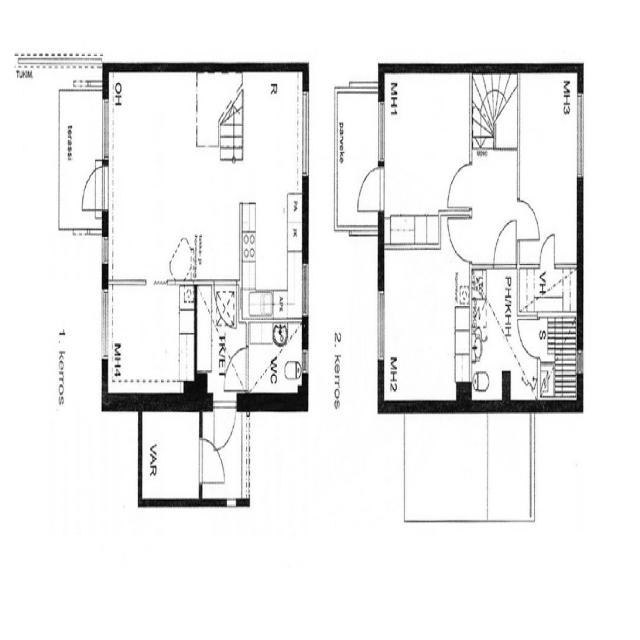door: (350, 161, 388, 218), (75, 160, 112, 217), (195, 435, 228, 488), (443, 153, 473, 211), (444, 208, 474, 265), (491, 213, 519, 269), (212, 395, 238, 451), (515, 194, 543, 244), (227, 344, 251, 387), (518, 316, 540, 359), (539, 229, 557, 268)
window: (573, 87, 588, 186), (299, 83, 313, 185), (97, 282, 112, 369), (374, 287, 387, 370), (98, 95, 112, 164), (300, 259, 312, 322), (376, 94, 386, 166), (98, 233, 110, 270), (575, 346, 586, 382), (299, 348, 310, 378), (223, 496, 238, 513)
zone: (104, 70, 306, 280), (381, 227, 474, 406), (239, 122, 308, 312), (384, 66, 472, 213), (106, 280, 193, 401), (140, 406, 202, 504), (472, 264, 508, 401), (246, 318, 304, 395), (521, 266, 581, 308)
